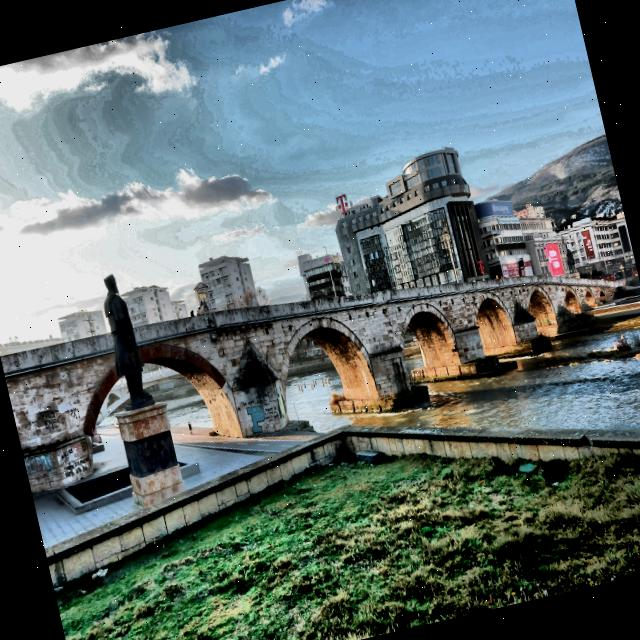stone bridge: (0, 206, 640, 501)
